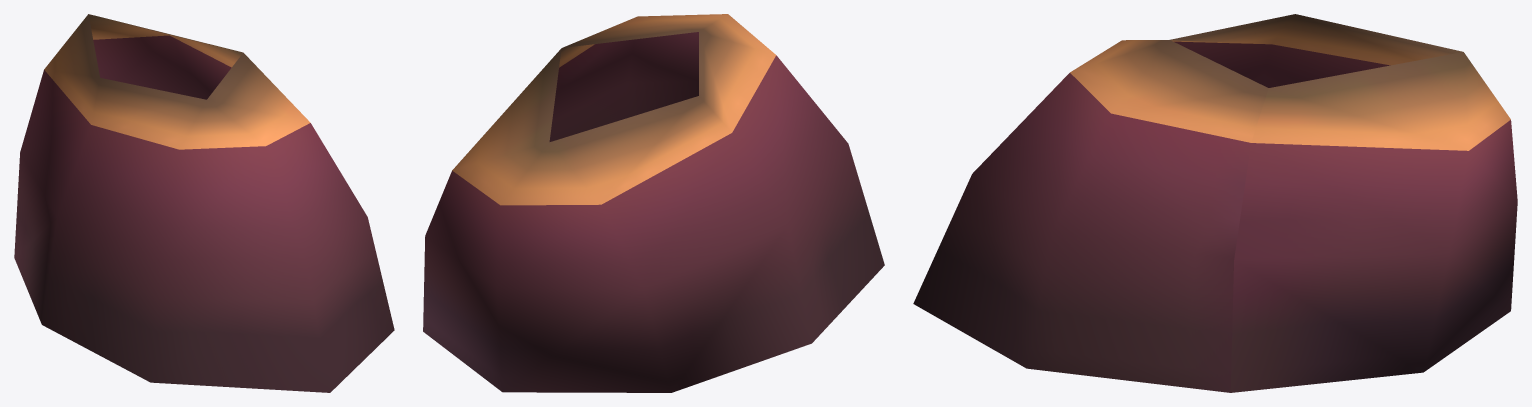
Rendered from pataTras1_planta_caballoTS.obj.
3 renders of one model, left to right at view 1: azimuth 30°, elevation 25°; view 2: azimuth 150°, elevation 25°; view 3: azimuth 270°, elevation 25°, orthographic. The views are drawn at different scales.
Parts seen in each view (by area): view 1: patatras1_planta; view 2: patatras1_planta; view 3: patatras1_planta.
Boxes of the visible parts, x1,y1,x2,y2 form: patatras1_planta: (14,14,394,392); patatras1_planta: (423,14,884,392); patatras1_planta: (913,14,1517,392).
Bounding box in the file's own units: 1.9 × 1.3 × 2.79.
